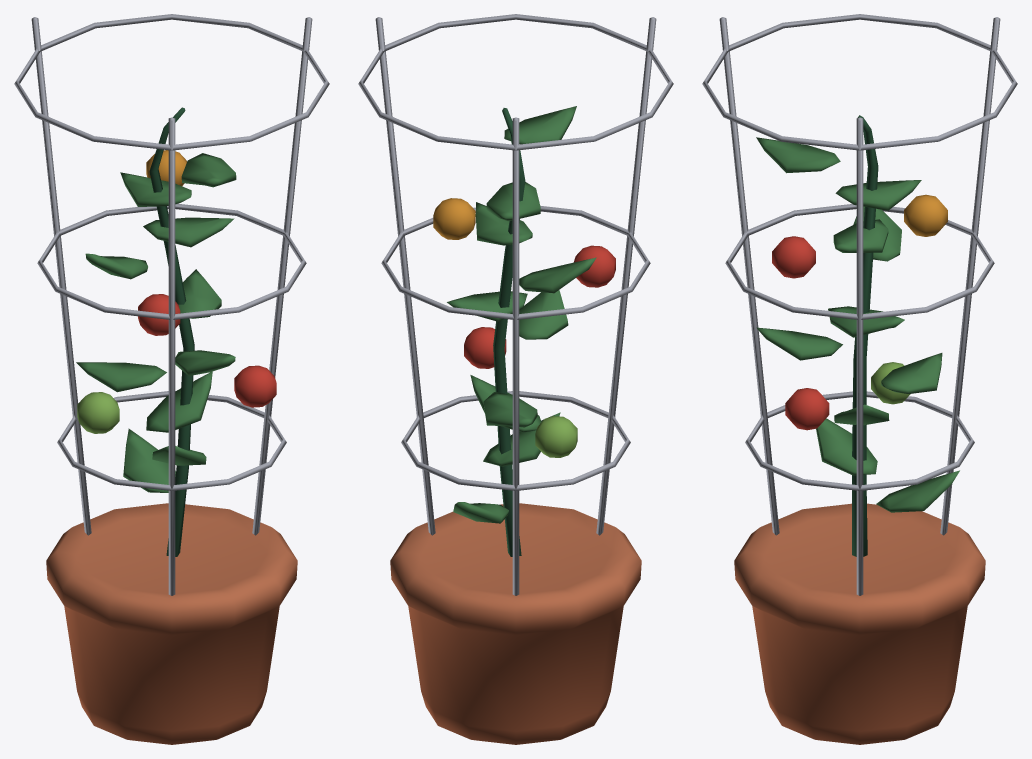
The model's file is tomato_cage.glb.
3 views of the same model, side by side, from view 1: azimuth 30°, elevation 25°; view 2: azimuth 150°, elevation 25°; view 3: azimuth 270°, elevation 25° (orthographic).
Visible parts, largest first — view 1: tomato_cage; view 2: tomato_cage; view 3: tomato_cage.
Part boxes in pixels (<box>): tomato_cage: <box>14,14,329,744</box>; tomato_cage: <box>358,14,673,744</box>; tomato_cage: <box>702,14,1017,744</box>.
Bounding box in the file's own units: 0.4853 × 1.1 × 0.4787.
